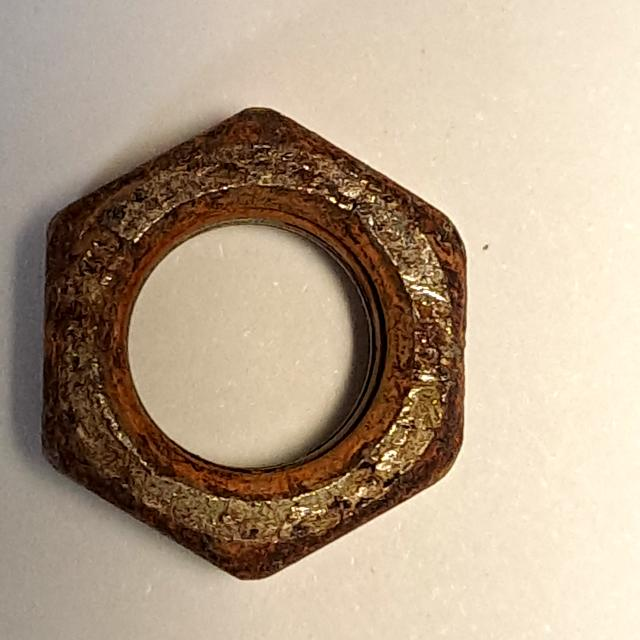Rust: (19, 98, 479, 595)
